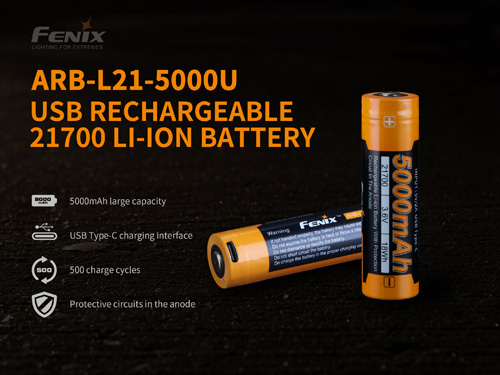Battery: (200, 199, 366, 295), (358, 90, 423, 303)
